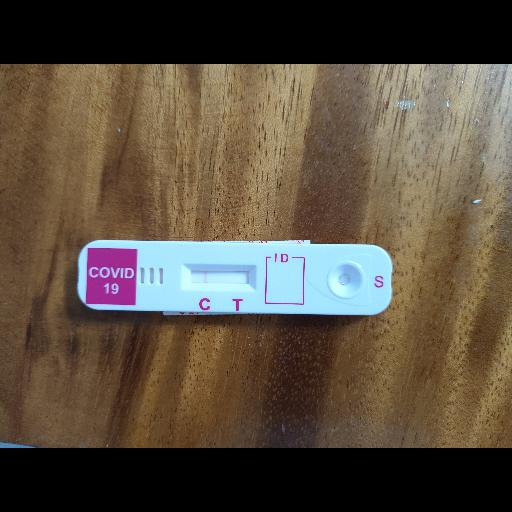Neg: (79, 239, 391, 315)
